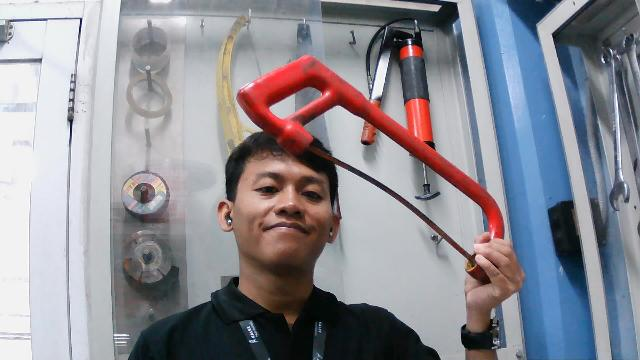gergaji_besi: (234, 51, 510, 286)
